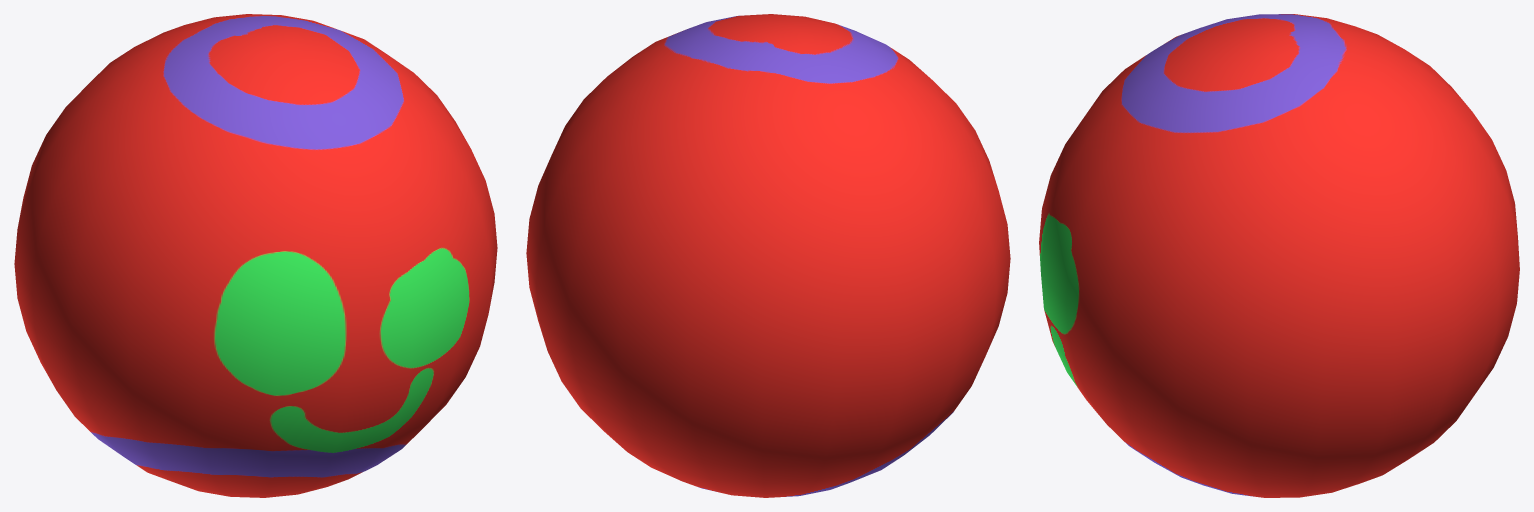
File: Ball test.fbx
3 views of the same model, side by side, from view 1: azimuth 30°, elevation 25°; view 2: azimuth 150°, elevation 25°; view 3: azimuth 270°, elevation 25° (orthographic).
Parts seen in each view (by area): view 1: pSphere2; view 2: pSphere2; view 3: pSphere2.
Boxes of the visible parts, x1,y1,x2,y2 form: pSphere2: (14, 14, 497, 497); pSphere2: (526, 14, 1010, 497); pSphere2: (1039, 14, 1519, 497).
Bounding box in the file's own units: 1.98 × 2 × 1.98.
Materials: 1 (1 with a texture image).
